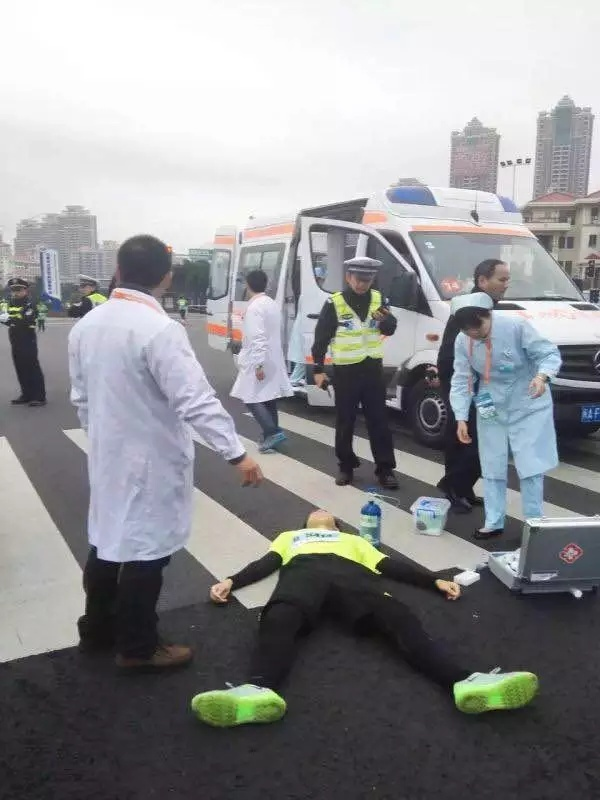falling: (172, 485, 565, 751)
